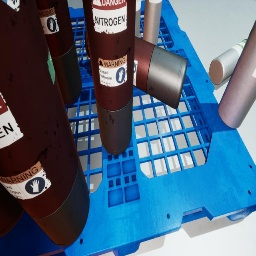0: (218, 19, 256, 128), (209, 39, 247, 85), (143, 0, 162, 46), (135, 0, 141, 38)
NitrogenTank ,: (0, 0, 90, 247), (82, 0, 136, 156), (85, 30, 188, 109), (35, 0, 82, 104), (0, 182, 24, 238)
